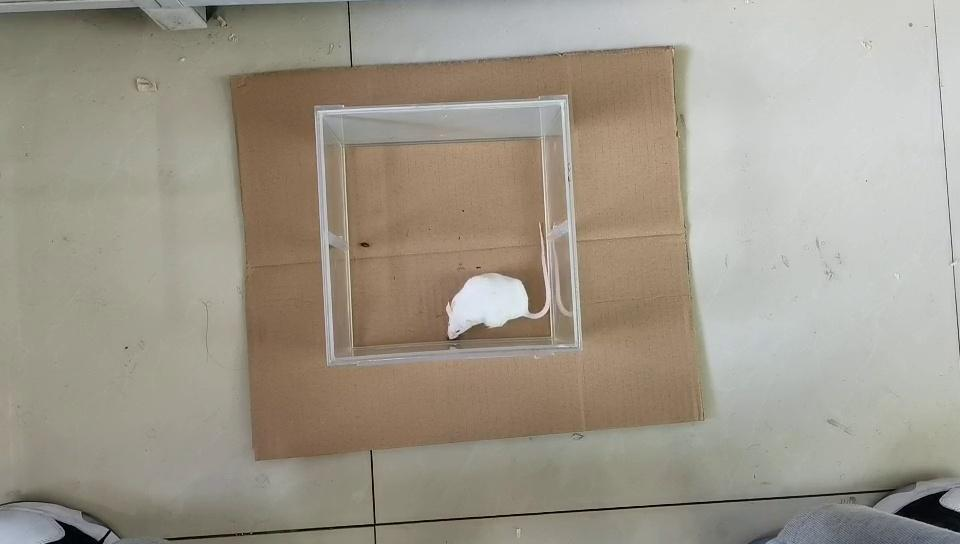rat: (430, 213, 564, 367)
